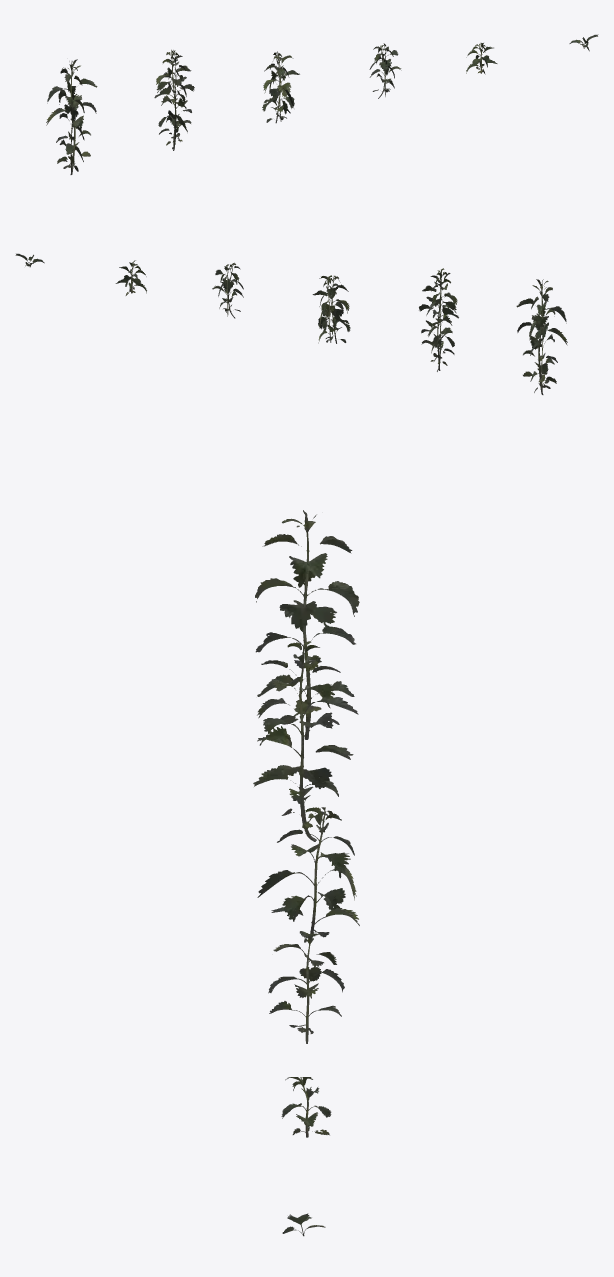
Rendered from nettle_plant_far.glb.
3 views of the same model, one above another, from view 1: azimuth 30°, elevation 25°; view 2: azimuth 150°, elevation 25°; view 3: azimuth 270°, elevation 25° (orthographic). The views are drawn at different scales.
Visible parts, largest first — view 1: nettle_plant_tall_a_LOD0, nettle_plant_tall_b_LOD0, nettle_plant_medium_a_LOD0, nettle_plant_medium_b_LOD0, nettle_plant_small_a_LOD0; view 2: nettle_plant_tall_a_LOD0, nettle_plant_tall_b_LOD0, nettle_plant_medium_a_LOD0, nettle_plant_medium_b_LOD0, nettle_plant_small_a_LOD0; view 3: nettle_plant_tall_a_LOD0, nettle_plant_tall_b_LOD0, nettle_plant_medium_a_LOD0, nettle_plant_medium_b_LOD0.
Boxes of the visible parts, left/top/right/bottom form: nettle_plant_tall_a_LOD0: left=46, top=59, right=97, bottom=174; nettle_plant_tall_b_LOD0: left=154, top=49, right=194, bottom=150; nettle_plant_medium_a_LOD0: left=262, top=51, right=299, bottom=123; nettle_plant_medium_b_LOD0: left=369, top=43, right=401, bottom=98; nettle_plant_small_a_LOD0: left=466, top=43, right=497, bottom=74; nettle_plant_tall_a_LOD0: left=516, top=279, right=567, bottom=394; nettle_plant_tall_b_LOD0: left=419, top=268, right=458, bottom=371; nettle_plant_medium_a_LOD0: left=312, top=275, right=350, bottom=343; nettle_plant_medium_b_LOD0: left=212, top=262, right=243, bottom=318; nettle_plant_small_a_LOD0: left=115, top=260, right=146, bottom=295; nettle_plant_tall_a_LOD0: left=255, top=510, right=359, bottom=739; nettle_plant_tall_b_LOD0: left=253, top=640, right=358, bottom=841; nettle_plant_medium_a_LOD0: left=257, top=807, right=359, bottom=938; nettle_plant_medium_b_LOD0: left=268, top=938, right=344, bottom=1043.
Bounding box in the file's own units: 1.14 × 0.2271 × 0.2254.
12 materials, 12 textured.
